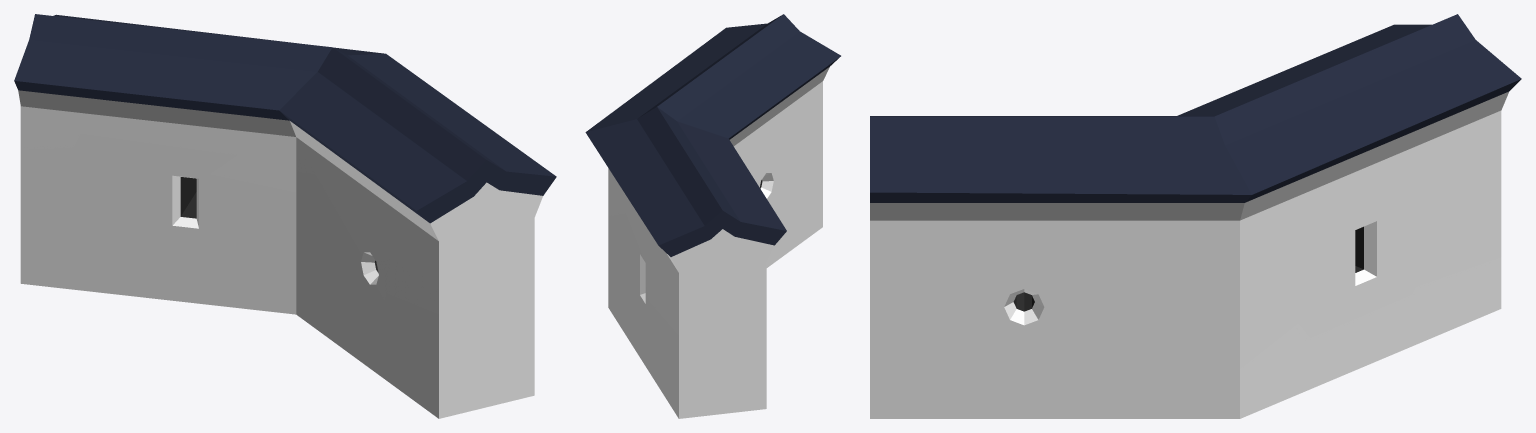
Rendered from wall-japan-elbow-small.glb.
The picture shows the model from 3 angles, left to right: view 1: azimuth 30°, elevation 25°; view 2: azimuth 150°, elevation 25°; view 3: azimuth 270°, elevation 25°; orthographic projection. The views are drawn at different scales.
Visible parts, largest first — view 1: wall-japan-elbow_small; view 2: wall-japan-elbow_small; view 3: wall-japan-elbow_small.
Boxes of the visible parts, x1,y1,x2,y2 form: wall-japan-elbow_small: (14,14,556,418); wall-japan-elbow_small: (585,14,840,418); wall-japan-elbow_small: (870,14,1521,418).
Size of the model in its own units: 3.23 by 2.48 by 5.28.
1 material, 1 textured.
